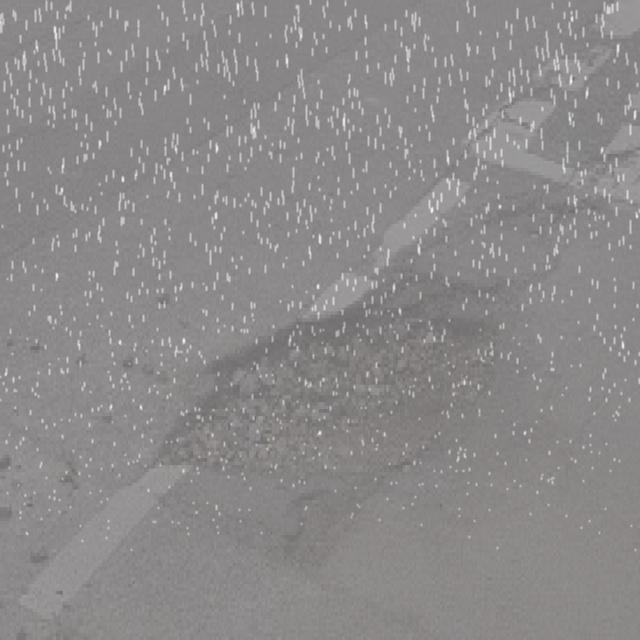Pothole: (154, 233, 527, 505)
